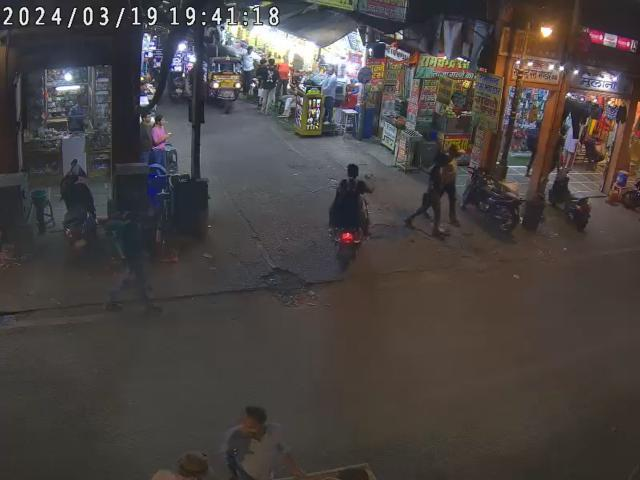auto: (207, 47, 240, 111)
helmet: (345, 163, 360, 177)
motorbike: (464, 163, 529, 232)
motorbike-rider: (325, 160, 375, 271)
person: (418, 146, 460, 234), (140, 112, 169, 168)
scooty: (58, 161, 102, 252), (544, 165, 594, 231)
